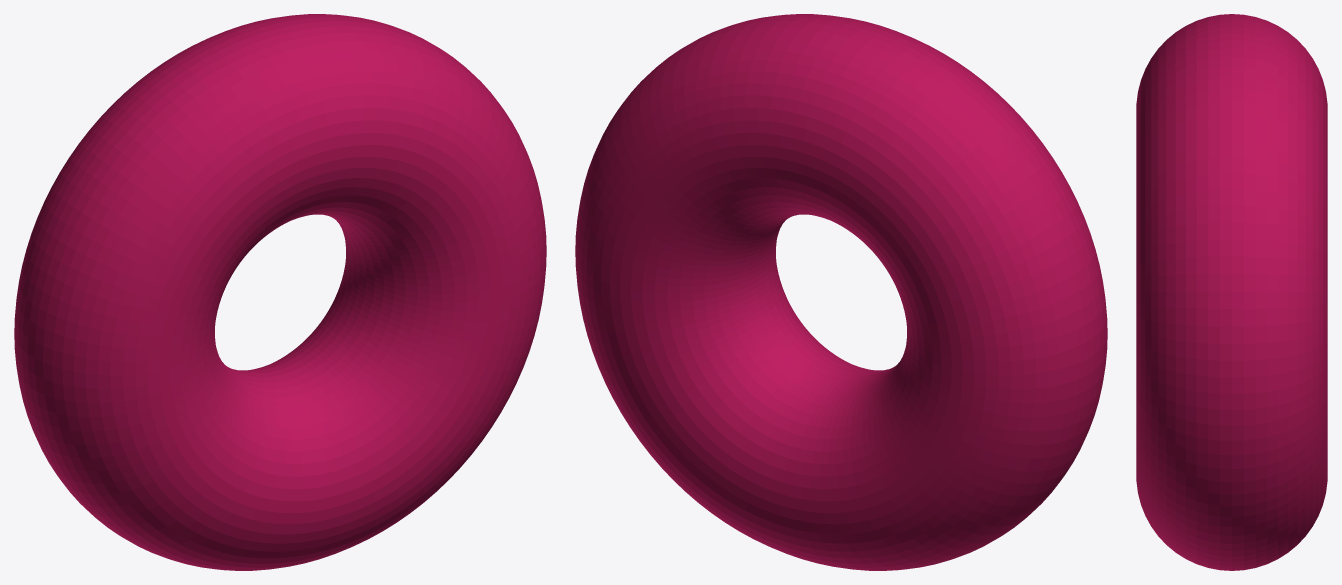
3 views of the same model, side by side, from view 1: azimuth 30°, elevation 25°; view 2: azimuth 150°, elevation 25°; view 3: azimuth 270°, elevation 25° (orthographic). The views are drawn at different scales.
Visible parts, largest first — view 1: world; view 2: world; view 3: world.
Part boxes in pixels (<box>): world: <box>14,14,546,570</box>; world: <box>575,14,1107,570</box>; world: <box>1136,14,1327,570</box>.
Bounding box in the file's own units: 21.33 × 21.33 × 7.32.
